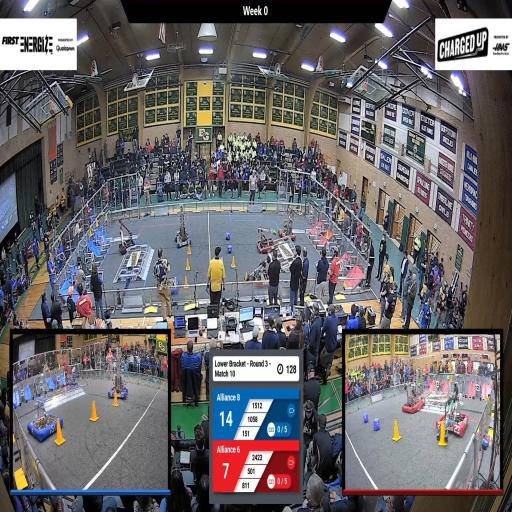robot: (117, 218, 138, 258), (174, 205, 192, 251), (250, 252, 272, 288), (256, 222, 276, 255), (158, 269, 180, 296), (279, 213, 297, 242)
